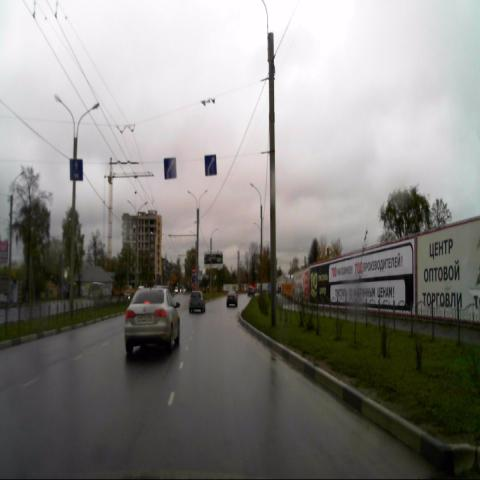5_14: (70, 158, 83, 181)
